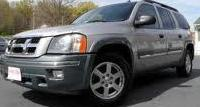front_view: (0, 33, 88, 94)
headlight: (46, 33, 89, 56)
side_glass: (130, 3, 192, 33)
